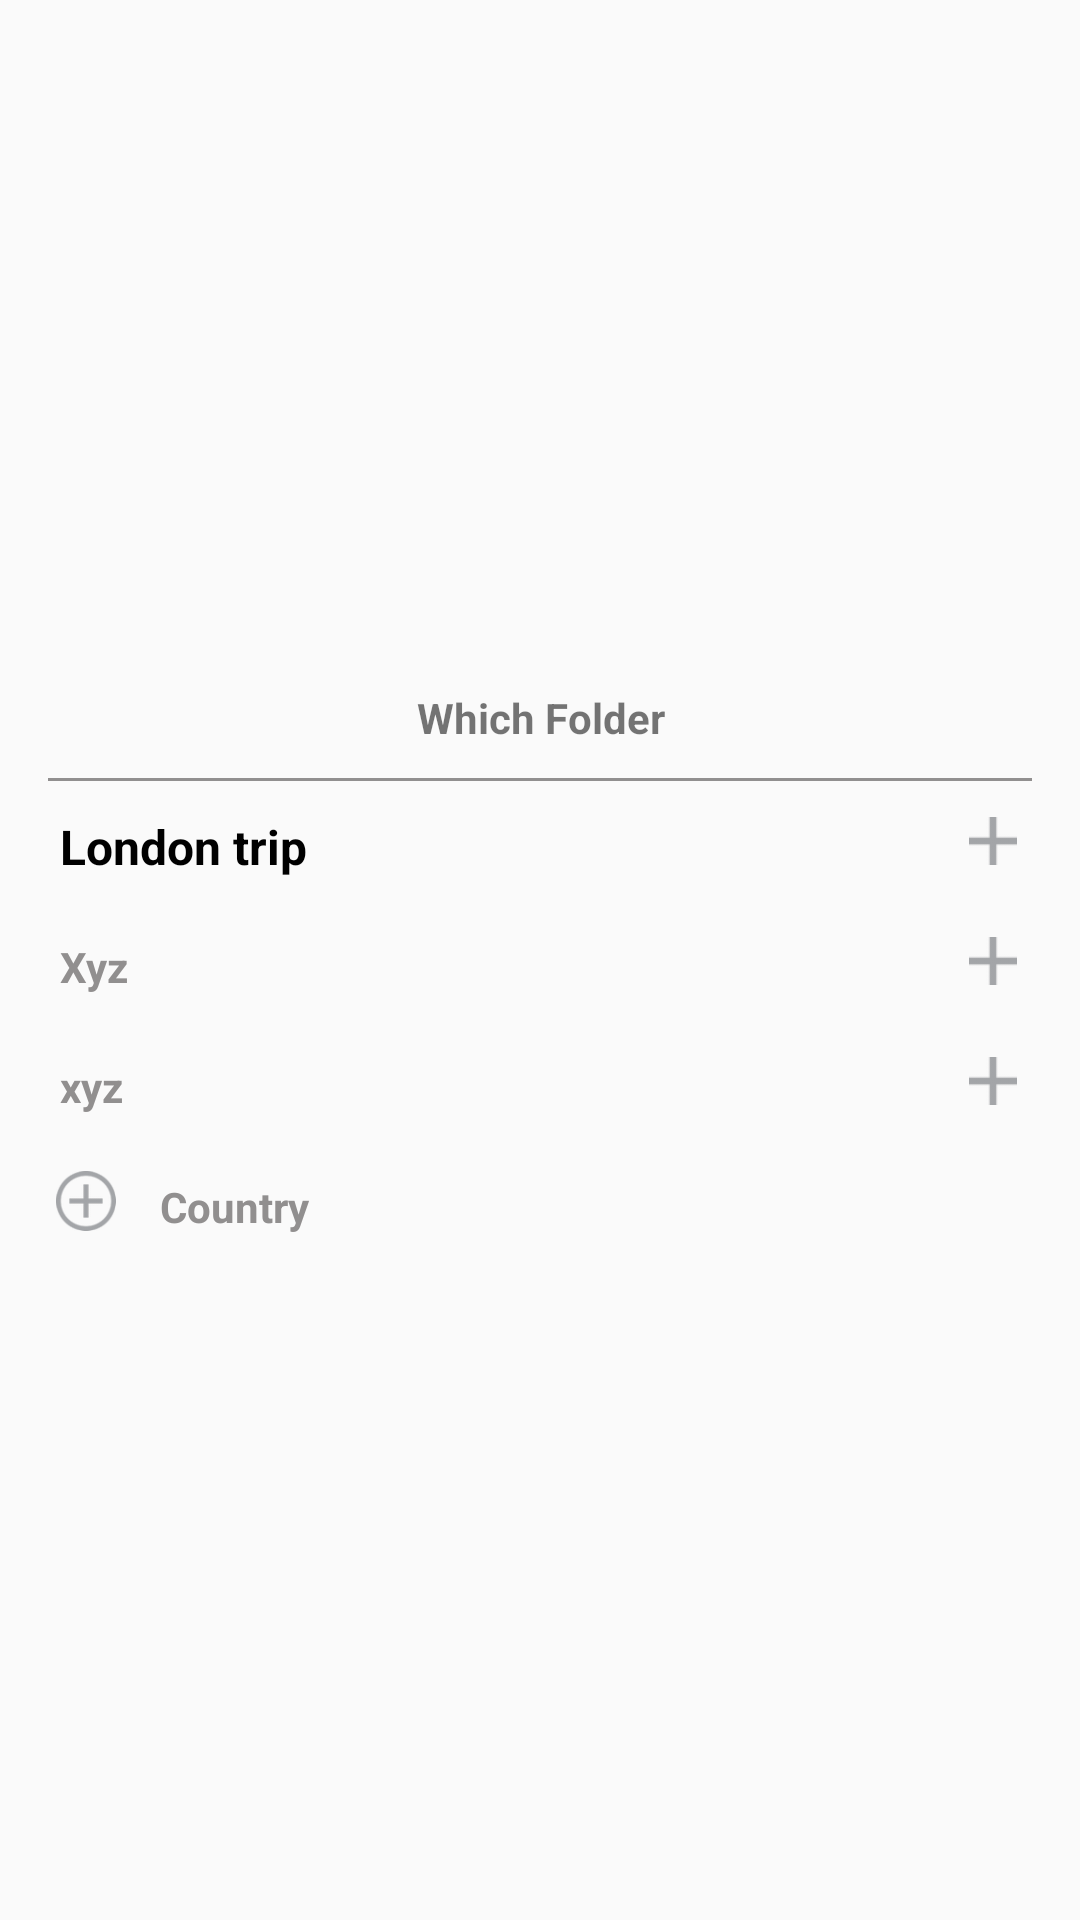

Point at icon controls on the screen. Image size 1080 x 1920, points as point (x, y).
plus: point (993, 841), point (993, 961), point (993, 1081), point (86, 1201)
